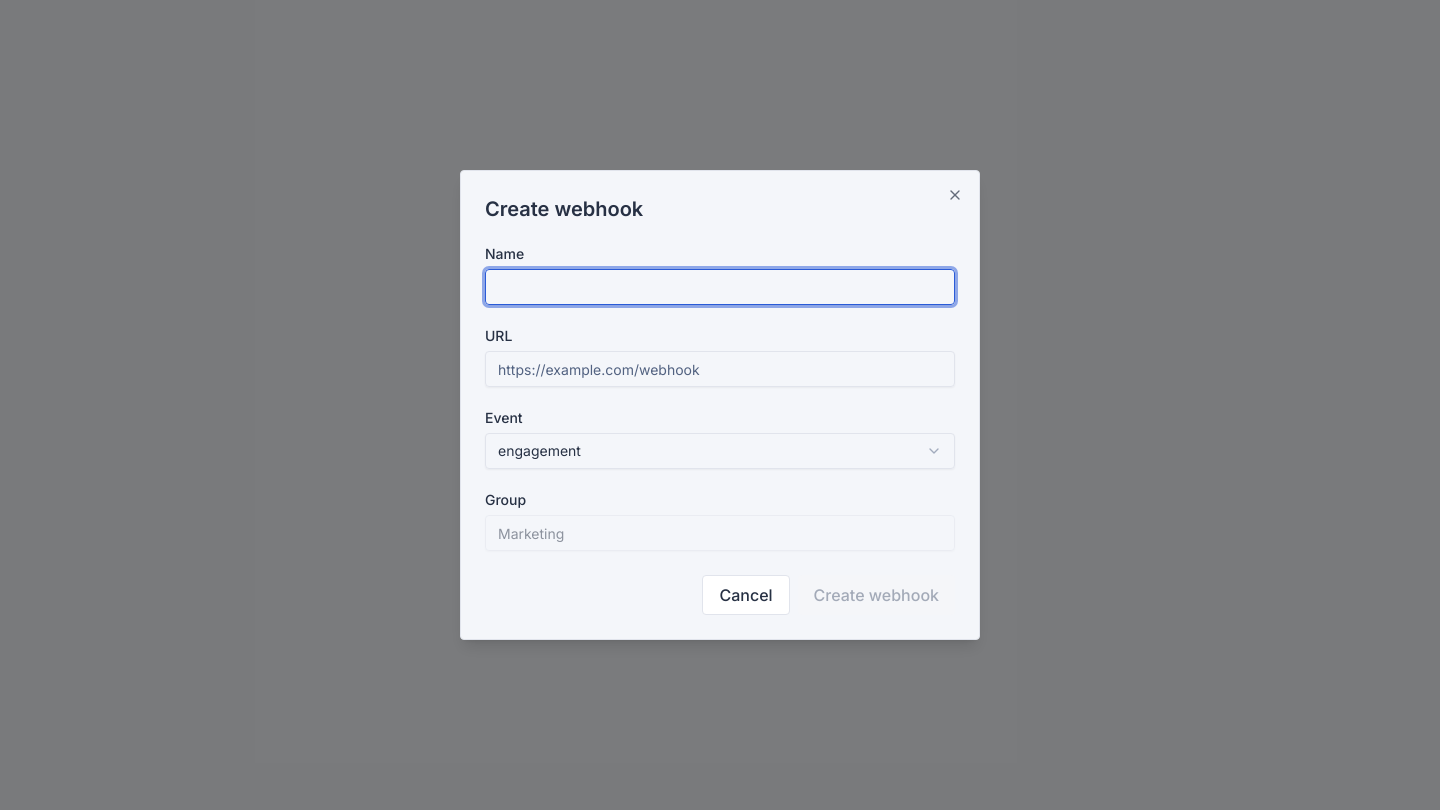
WebhookDialog › shows the API error inline
The width and height of the screenshot is (1440, 810).
In the field labelled "Name": (720, 287) left=485, top=269, right=955, bottom=305, type "Local"
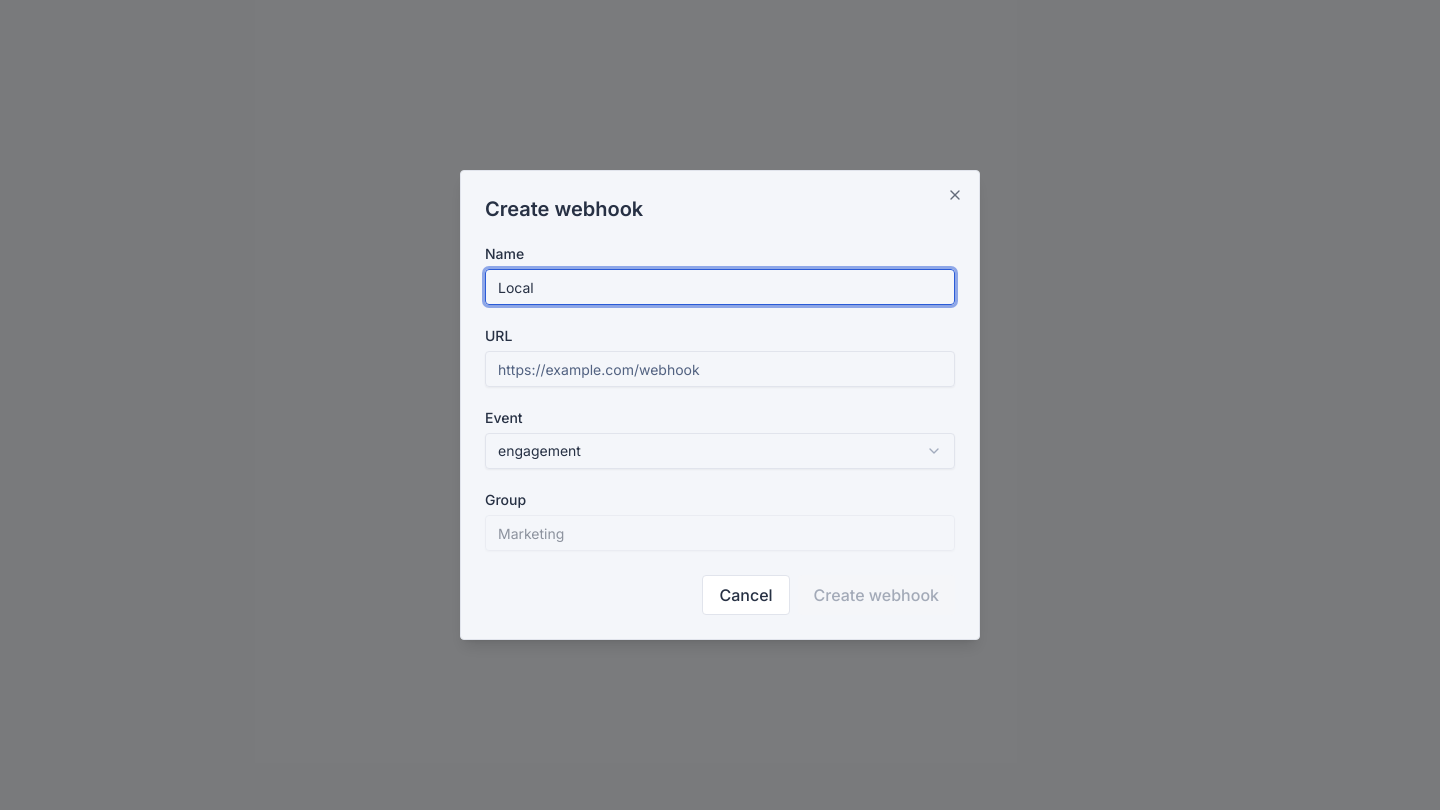
In the field labelled "URL": (720, 369) left=485, top=351, right=955, bottom=387, type "http://127.0.0.1/x"
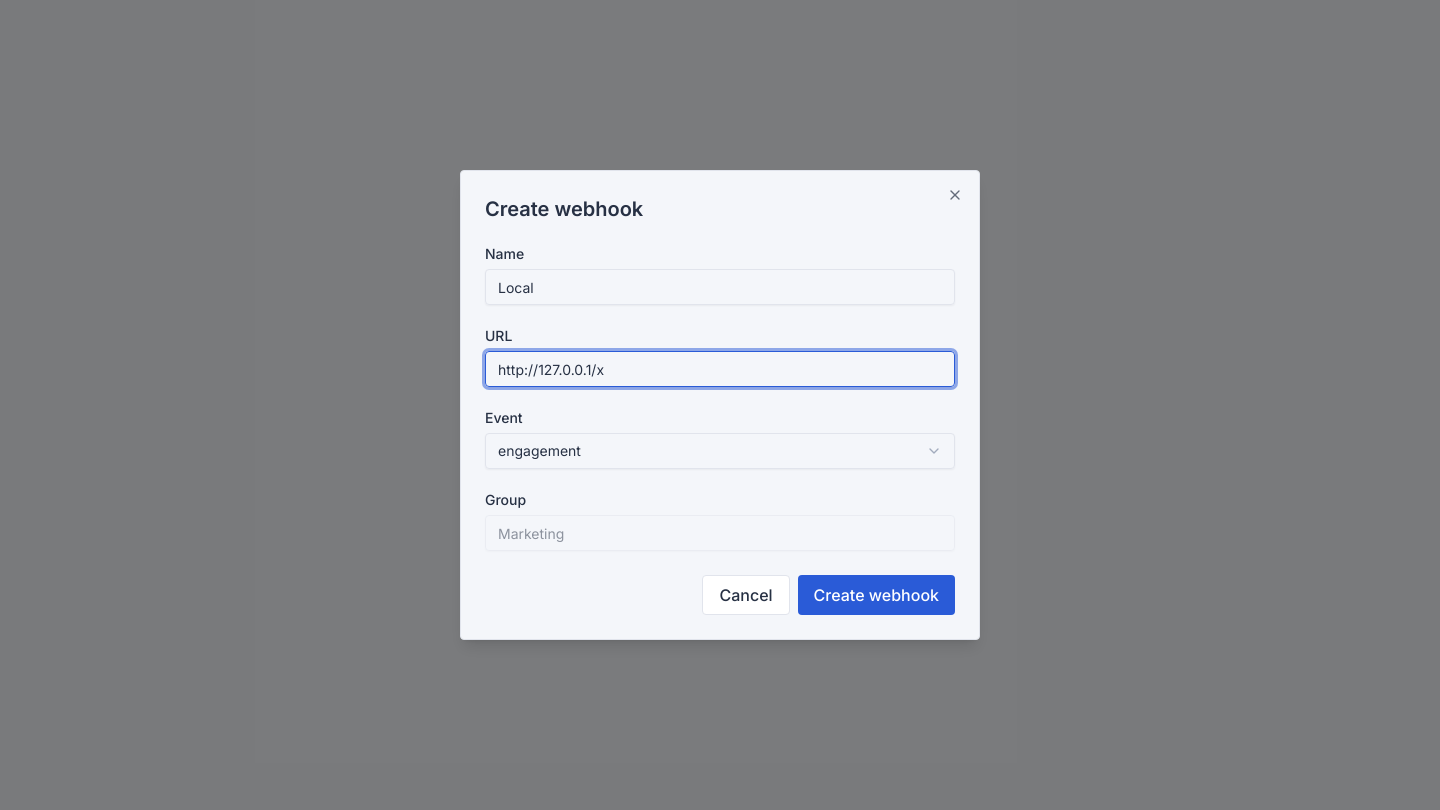
Click the button "Create webhook": click(876, 595) left=798, top=575, right=955, bottom=615
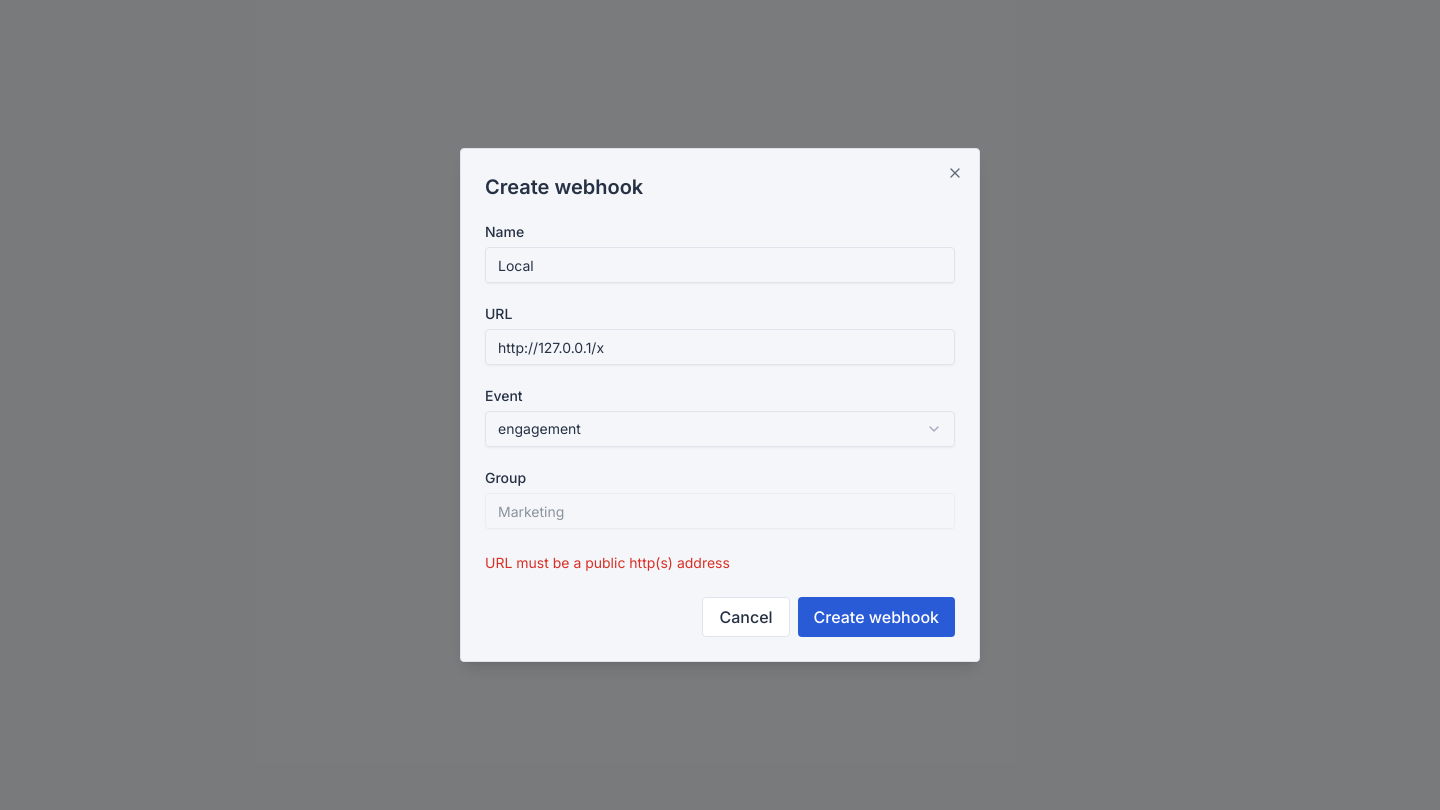
Expected: the message reads "URL must be a public http(s) address", left=485, top=554, right=730, bottom=571
